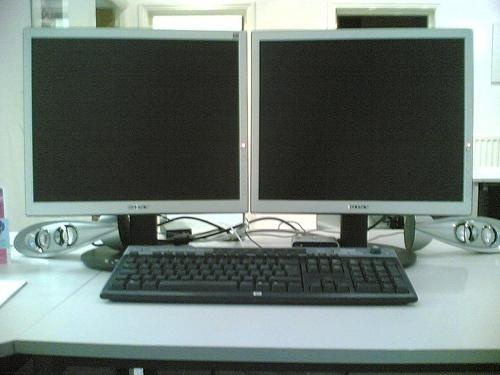tvmonitor: (22, 28, 251, 273), (251, 28, 475, 267)
